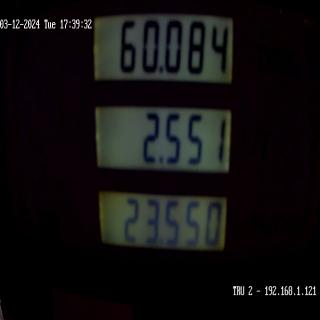screen: (90, 1, 241, 286)
